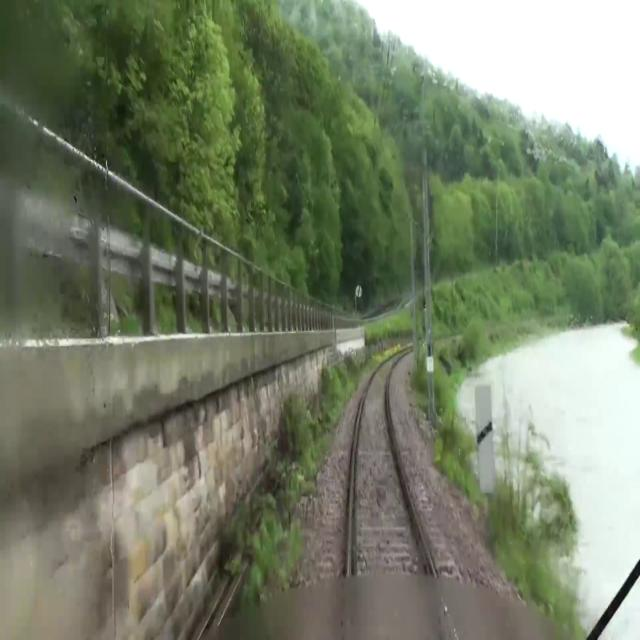rail-track: (352, 354, 453, 639)
